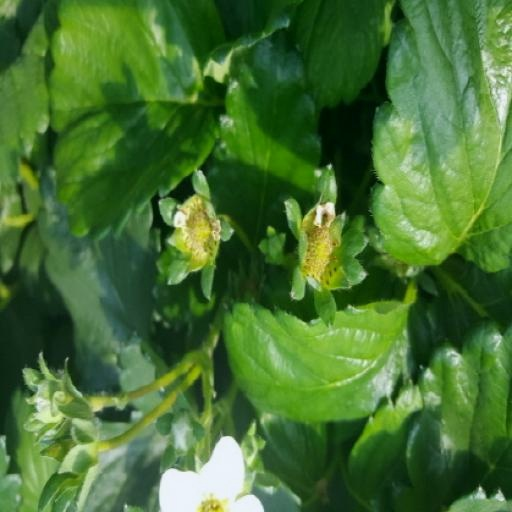Blossom Blight: (300, 227, 343, 301), (181, 251, 222, 314)
